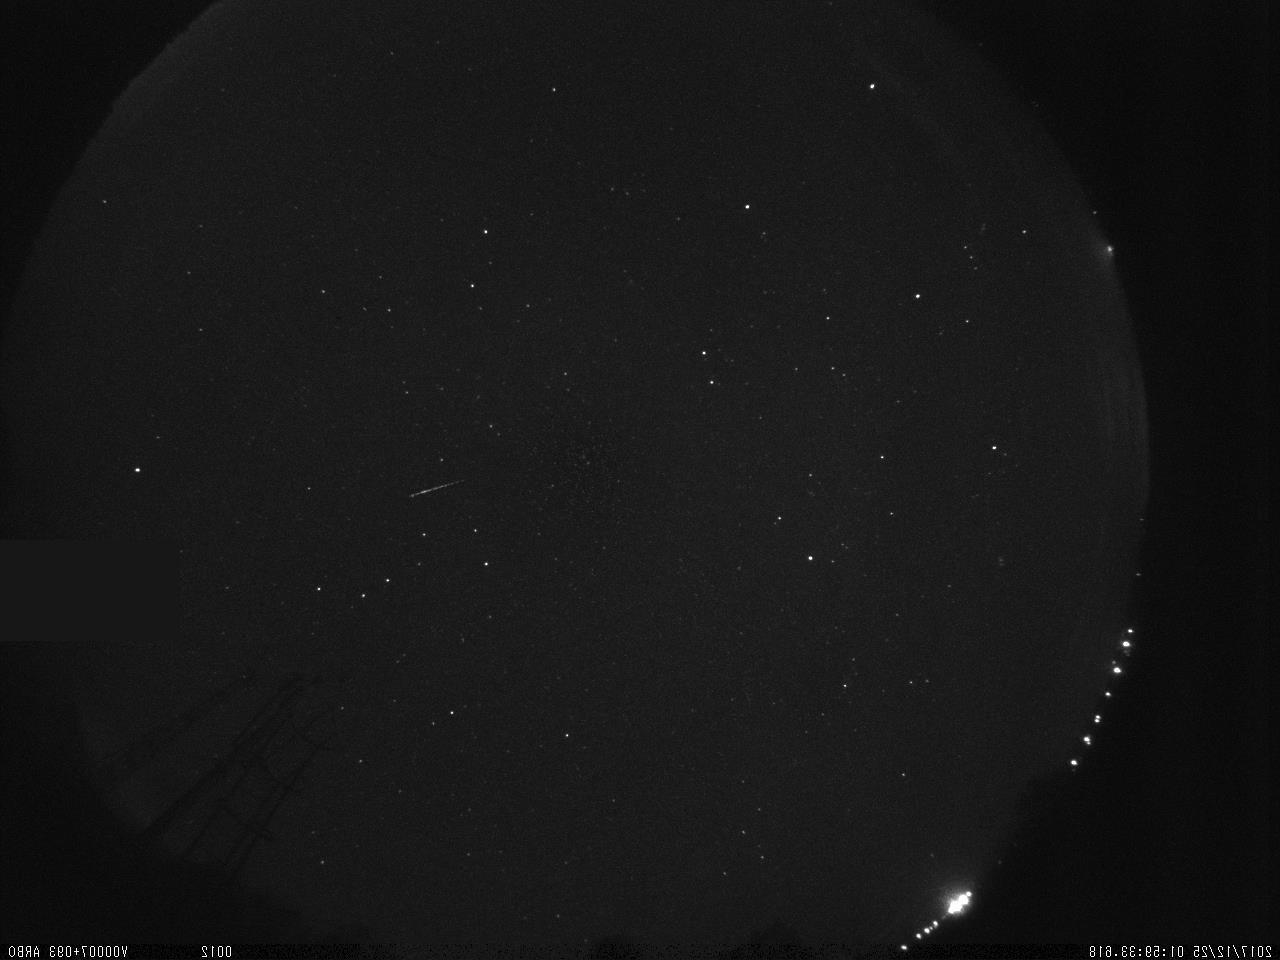meteor: (395, 476, 478, 505)
